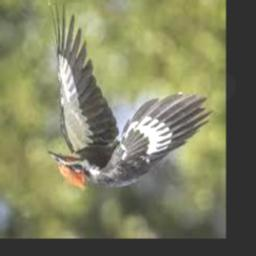Woodpecker: (47, 0, 213, 191)
